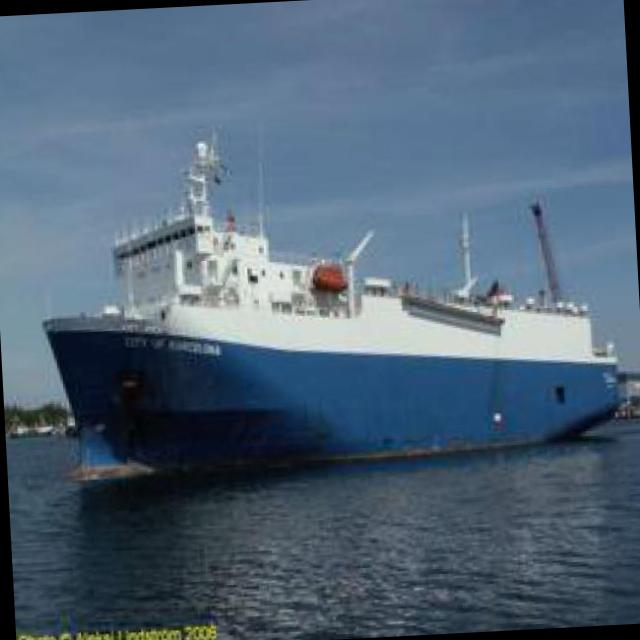boat: (38, 181, 626, 474)
